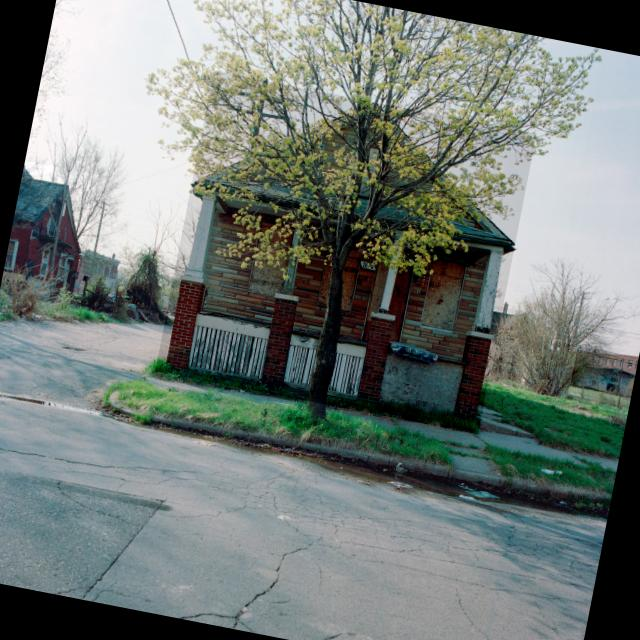House: (155, 70, 537, 434), (0, 161, 100, 303), (570, 346, 639, 398)
